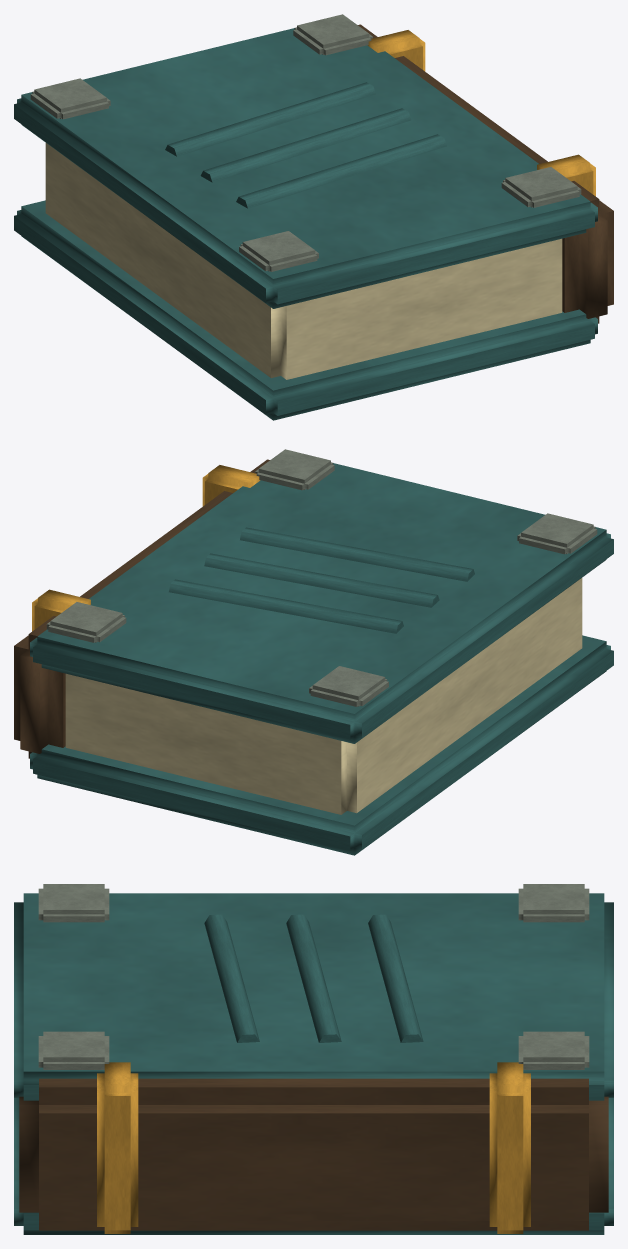
Rendered from item-ChillDraftGrimoire.fbx.
3 renders of one model, top to bottom at view 1: azimuth 30°, elevation 25°; view 2: azimuth 150°, elevation 25°; view 3: azimuth 270°, elevation 25°, orthographic. The views are drawn at different scales.
Parts seen in each view (by area): view 1: item-ChillDraftGrimoire__Geometry; view 2: item-ChillDraftGrimoire__Geometry; view 3: item-ChillDraftGrimoire__Geometry.
Part boxes in pixels (x1=…): item-ChillDraftGrimoire__Geometry: x1=14, y1=14, x2=613, y2=420; item-ChillDraftGrimoire__Geometry: x1=14, y1=449, x2=613, y2=855; item-ChillDraftGrimoire__Geometry: x1=14, y1=884, x2=613, y2=1234.
Bounding box in the file's own units: 0.445 × 0.177 × 0.55.
1 material, 1 textured.
